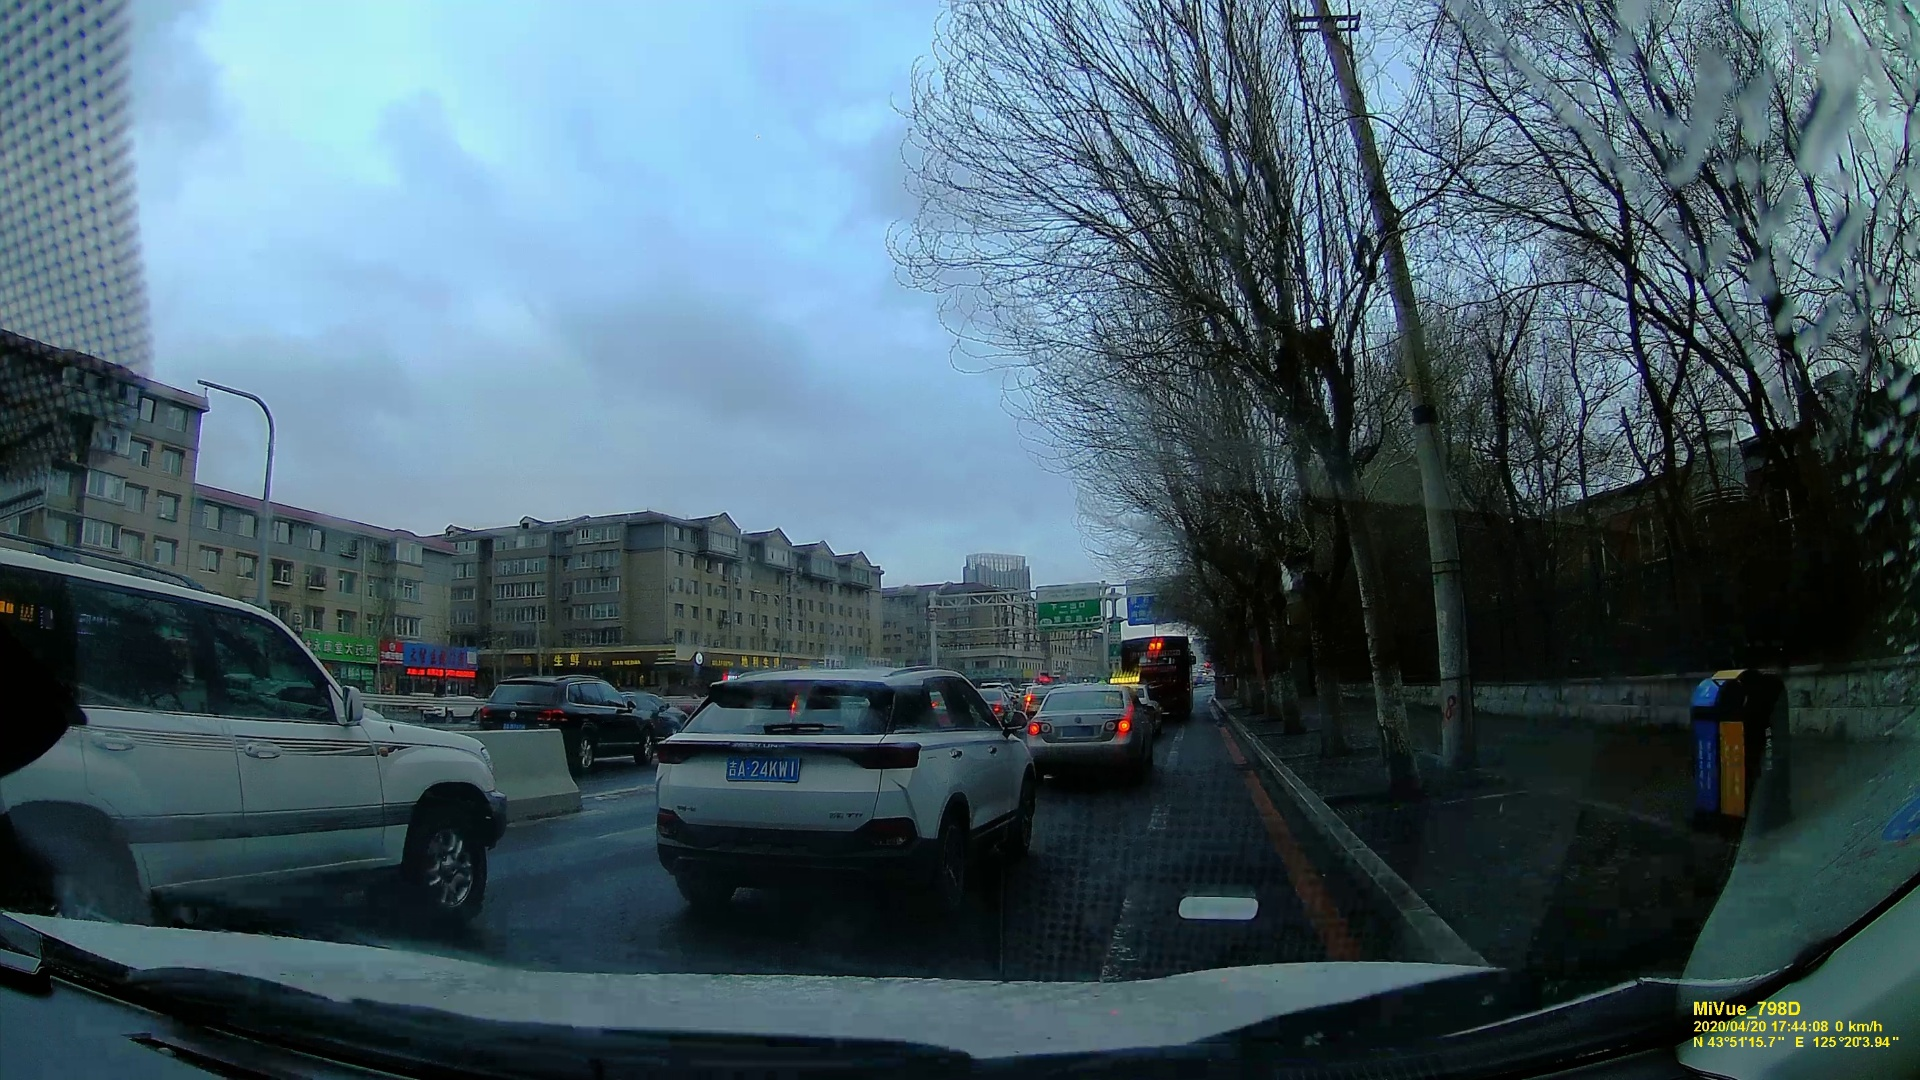bus: (1113, 632, 1201, 713)
traffic_sign: (1126, 578, 1189, 624), (1036, 584, 1100, 628)
vehicle: (3, 542, 502, 922), (638, 661, 1051, 877), (467, 671, 661, 764), (1029, 678, 1166, 771)
